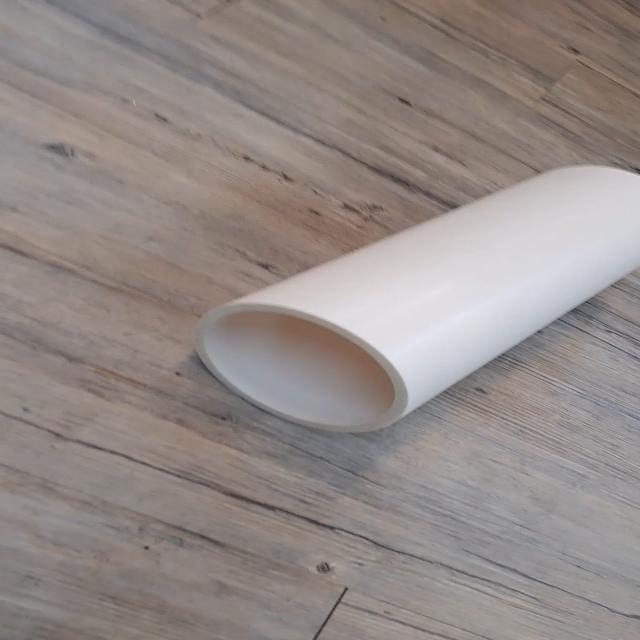CORAL: (196, 160, 640, 438)
